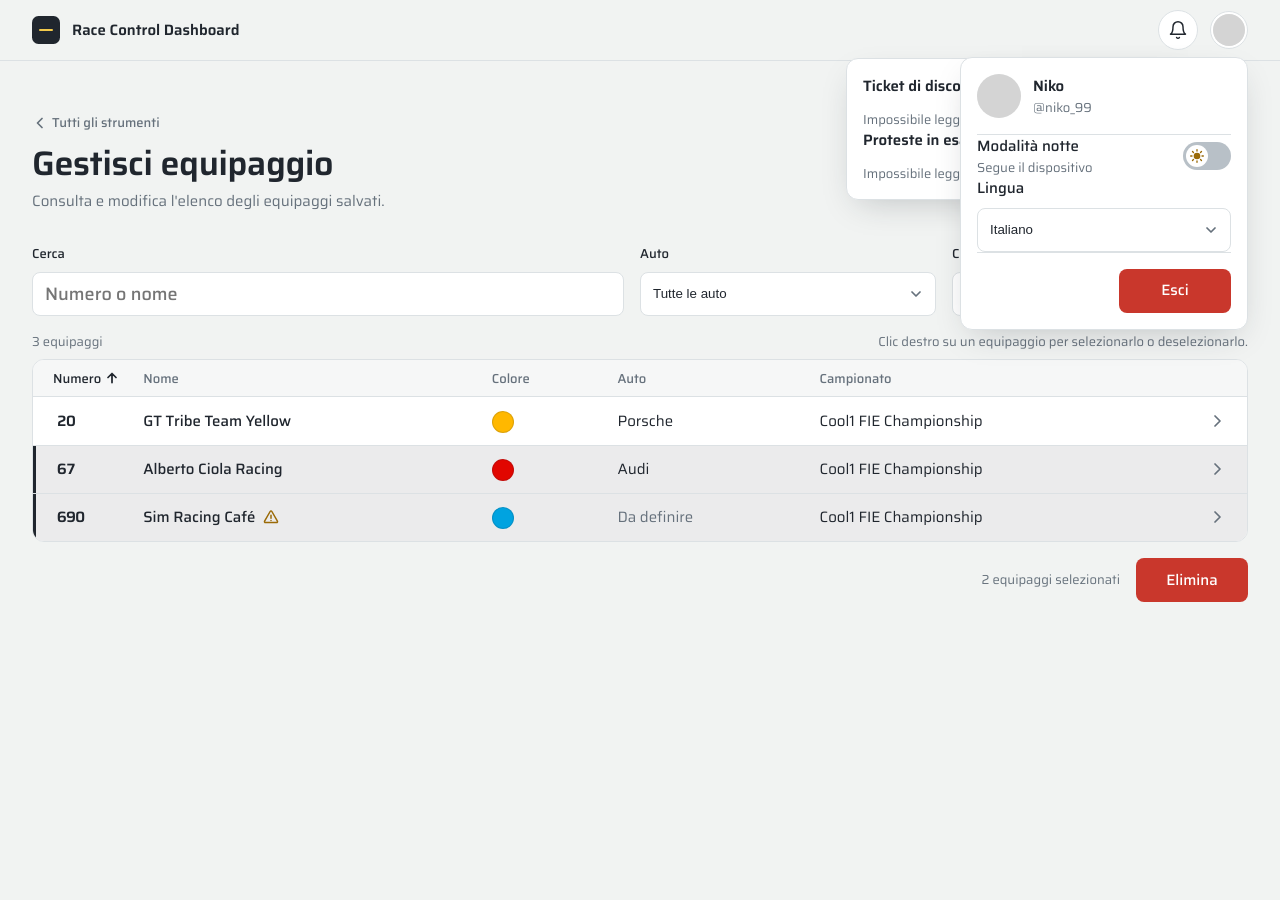
Test: Gestisci equipaggio: elenco › il tasto destro seleziona e deseleziona; Elimina chiede conferma e ricarica l’elenco
This screenshot has width=1280, height=900.
Expected: the table is shown, [33,360,1247,541]
Expected: the text "2 equipaggi selezionati" is shown, [981,570,1120,590]
Step 1. Click the button "Elimina" → (1192, 580), box [1136,558,1248,602]
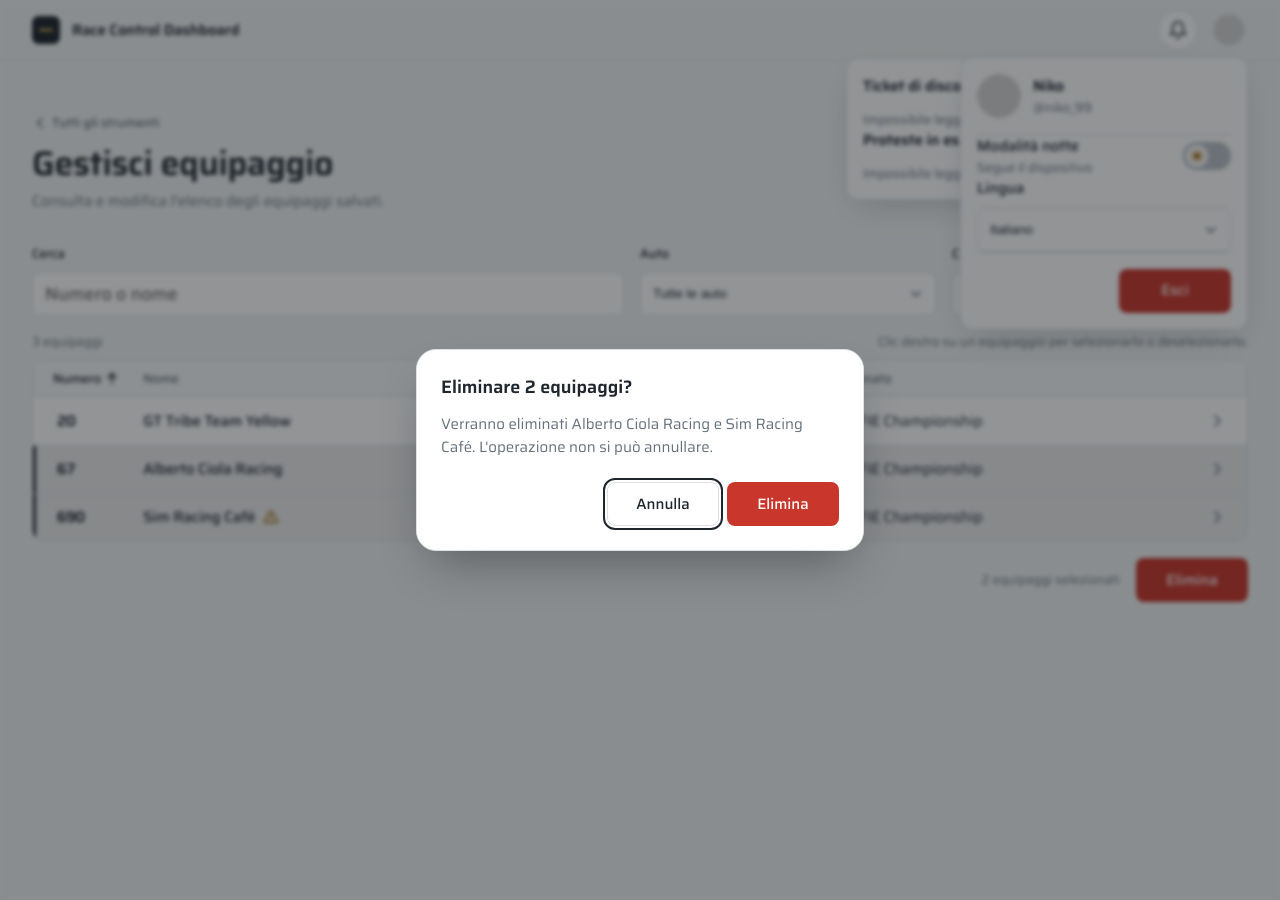
Now the dialog "Eliminare 2 equipaggi?" shows "Alberto Ciola Racing e Sim Racing Café", box [441,412,803,458]
Step 2. Click the button "Elimina" below "Eliminare 2 equipaggi?" → (783, 504), box [727,482,839,526]
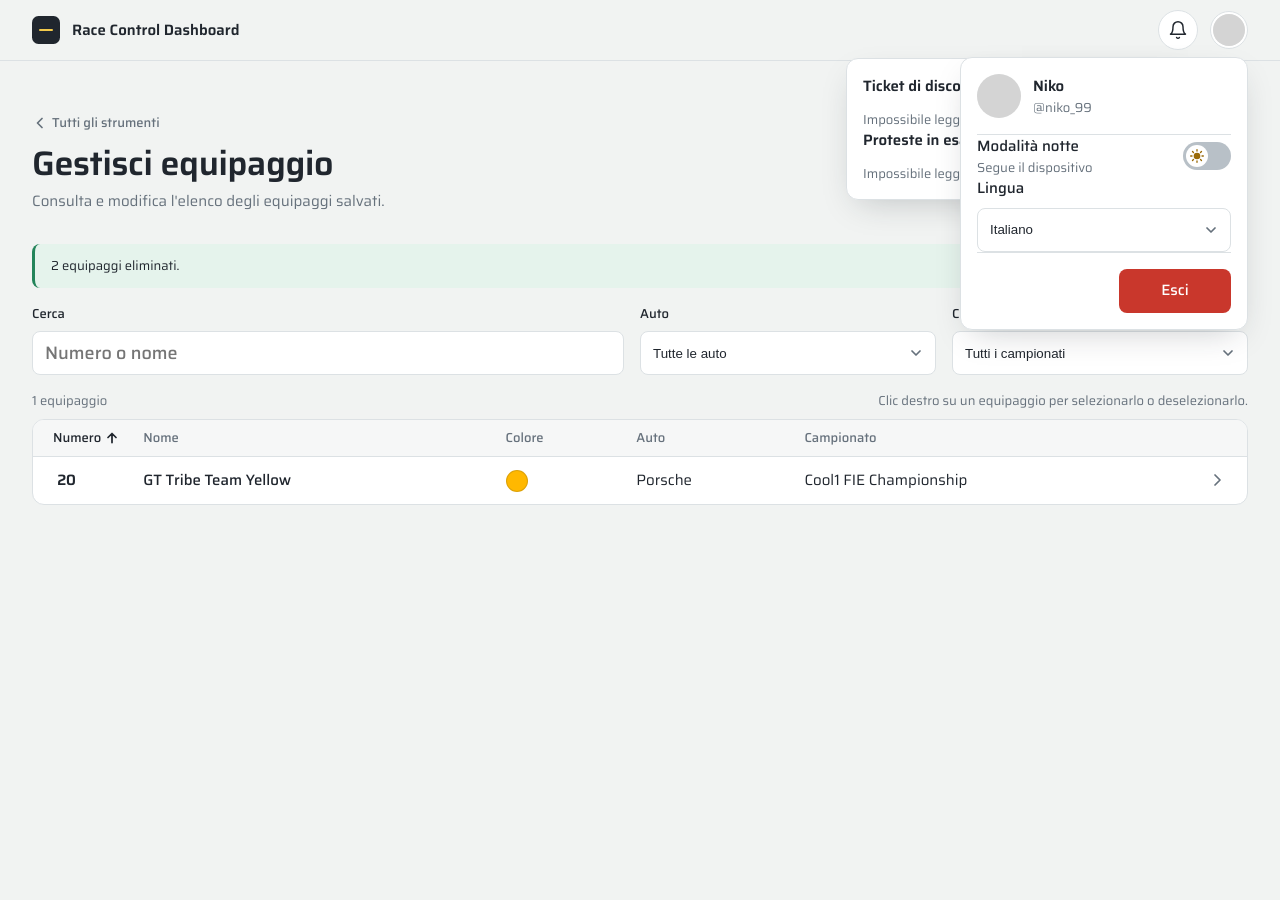
Now the text "2 equipaggi eliminati." is shown, box [32,244,1248,288]
Now the text "1 equipaggio" is shown, box [32,391,107,411]
